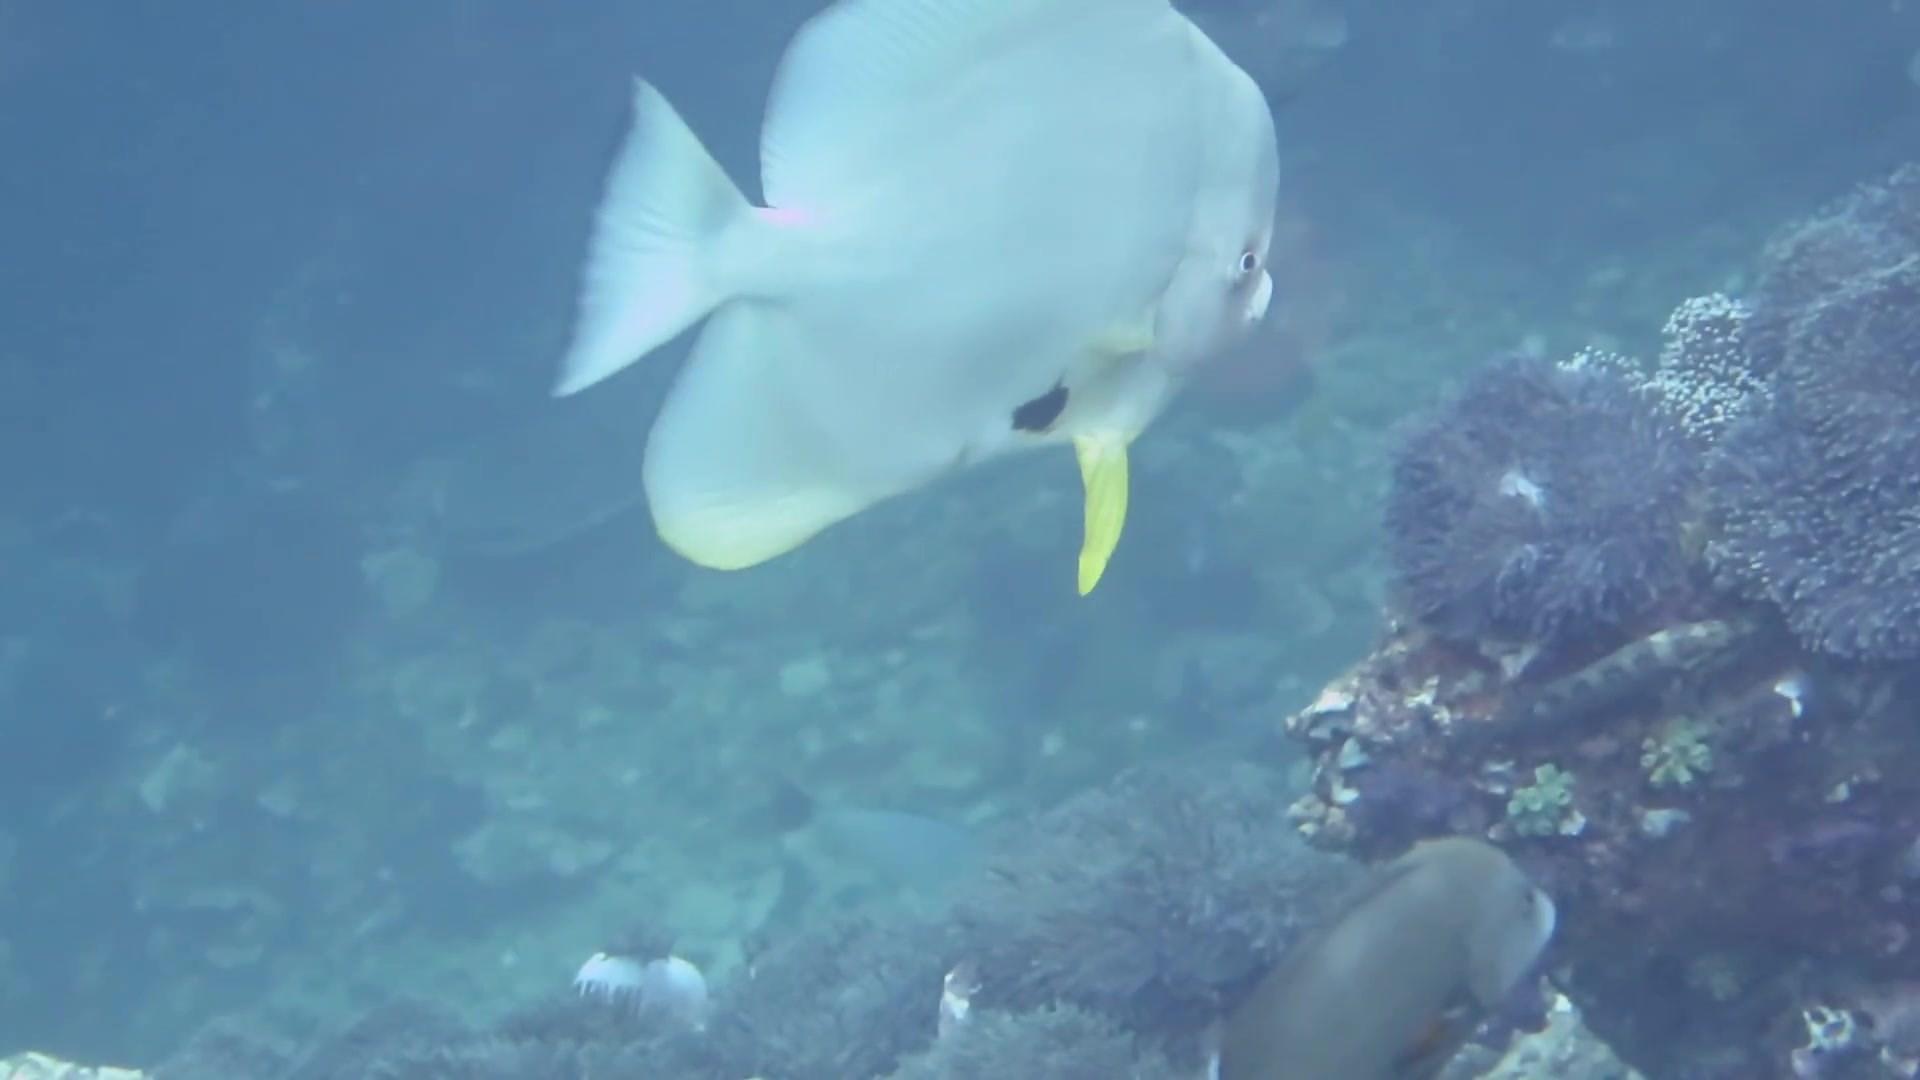Platax teira: (506, 1, 1375, 640)
